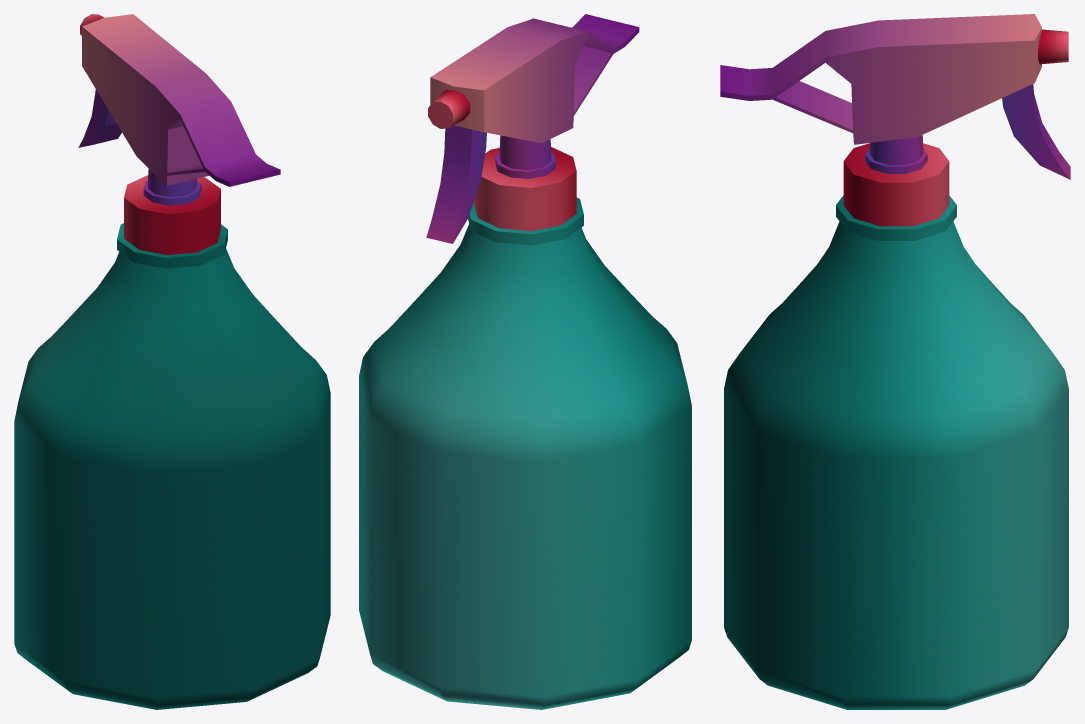
File: Water_bottle.fbx
The picture shows the model from 3 angles, left to right: view 1: azimuth 30°, elevation 25°; view 2: azimuth 150°, elevation 25°; view 3: azimuth 270°, elevation 25°; orthographic projection. The views are drawn at different scales.
Visible parts, largest first — view 1: Water_Bottle; view 2: Water_Bottle; view 3: Water_Bottle.
Part boxes in pixels (left/top/right/bottom): Water_Bottle: left=14, top=14, right=330, bottom=709; Water_Bottle: left=359, top=14, right=691, bottom=709; Water_Bottle: left=720, top=14, right=1070, bottom=709.
Bounding box in the file's own units: 15.19 × 31.61 × 16.23.
